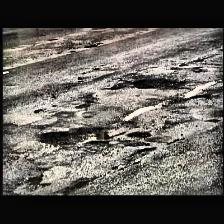pothole: (40, 118, 138, 146), (52, 178, 92, 195), (16, 174, 52, 192), (132, 78, 186, 90)
